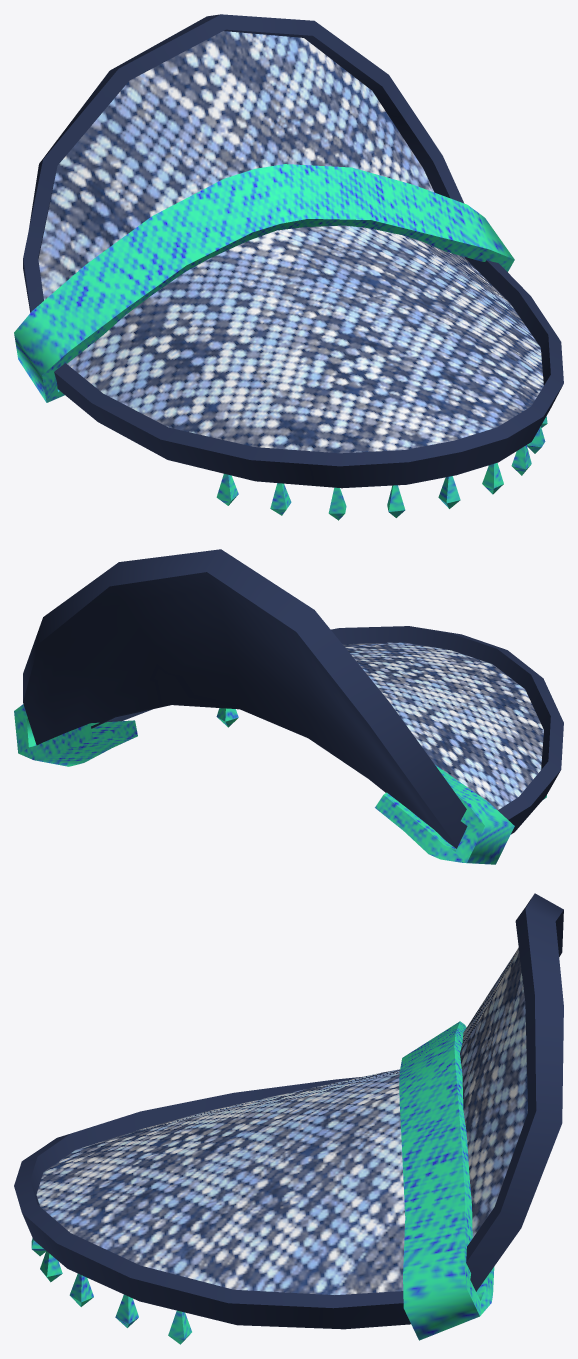
File: SM_blinbling.fbx
3 views of the same model, one above another, from view 1: azimuth 30°, elevation 25°; view 2: azimuth 150°, elevation 25°; view 3: azimuth 270°, elevation 25° (orthographic). The views are drawn at different scales.
Parts seen in each view (by area): view 1: SM_blinbling; view 2: SM_blinbling; view 3: SM_blinbling.
Boxes of the visible parts, x1=… form: SM_blinbling: x1=14, y1=14, x2=563, y2=520; SM_blinbling: x1=14, y1=549, x2=563, y2=864; SM_blinbling: x1=14, y1=893, x2=563, y2=1344.
Size of the model in its own units: 58.04 by 39.3 by 55.02.
